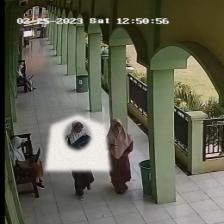Mukena: (45, 114, 110, 171)
